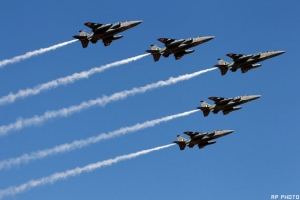flight: (73, 20, 144, 49), (145, 35, 216, 63), (214, 50, 286, 76), (195, 94, 262, 117), (172, 129, 236, 151)
